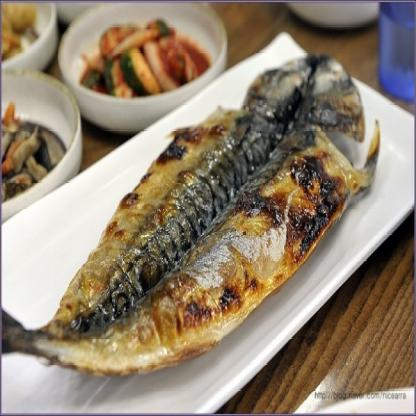Peixe: (0, 33, 395, 394)
